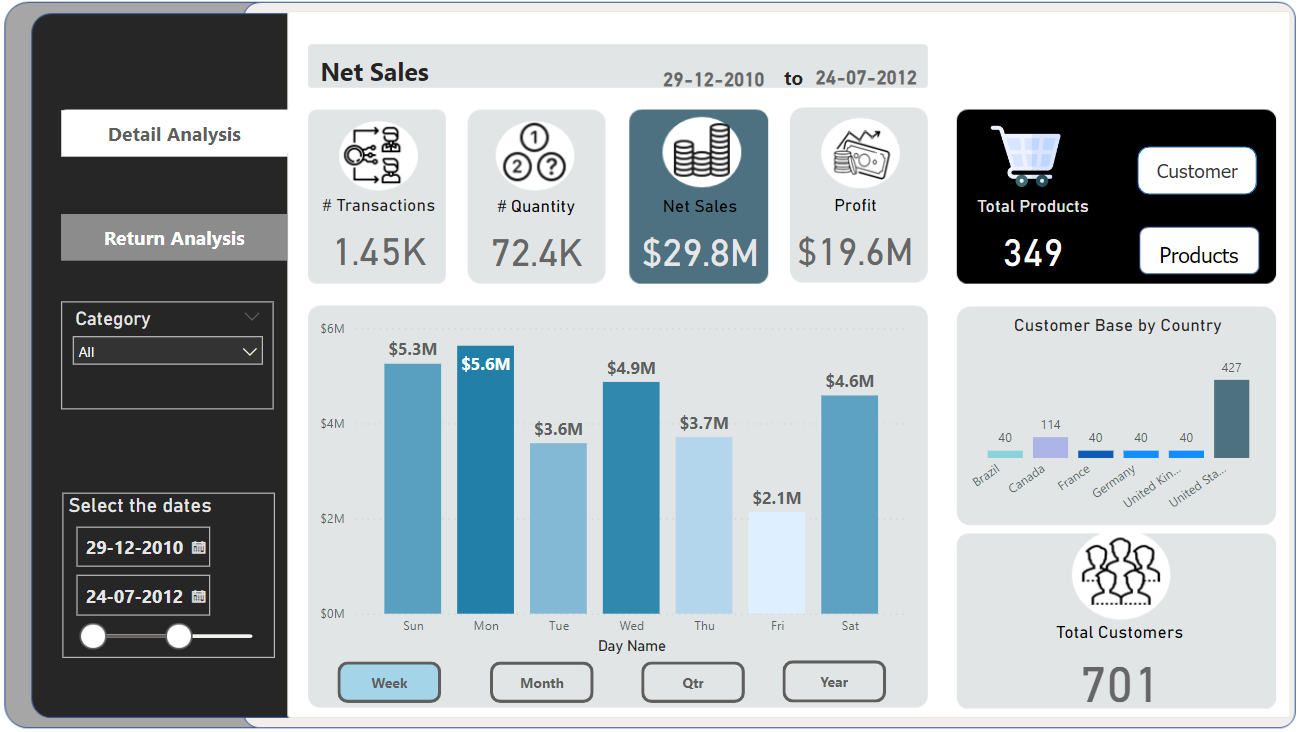

What the dashboard file says about the page in this screenshot:
{"tool":"powerbi","page":{"name":"Net Sales","canvas":[1280,720],"ordinal":2},"visuals":[{"type":"card","title":"# Transactions","fields":{"Values":["MeasuresTable.# Transactions"]},"box":[319.6,193,120.6,85.6],"z":0},{"type":"actionButton","title":"InactiveYear","box":[770,642.7,99.7,40.5],"z":0,"group":"g1"},{"type":"actionButton","title":"InactiveMonth","box":[487,643.6,100.1,39.8],"z":0,"group":"g2"},{"type":"actionButton","title":"Inactive Qtr","box":[633.4,643.6,100.1,40.3],"z":0,"group":"g4"},{"type":"card","title":"# Quantity","fields":{"Values":["MeasuresTable.# Total Quantity"]},"box":[457.1,194.2,149.5,85.6],"z":1000},{"type":"actionButton","title":"Active Week","box":[340.7,644,100.1,40.3],"z":1000,"group":"g3"},{"type":"card","title":"Net Sales","fields":{"Values":["MeasuresTable.Net Revenue"]},"box":[615.1,194.2,149.5,85.6],"z":2000},{"type":"card","title":"Profit","fields":{"Values":["MeasuresTable.Total Profit"]},"box":[764.6,193,150.8,85.6],"z":3000},{"type":"card","title":"Total Products","fields":{"Values":["MeasuresTable.Total No of Products"]},"box":[872,194.2,278.6,85.6],"z":4000},{"type":"columnChart","title":"Week T Chart","fields":{"Category":["DimDates.Day Name"],"Y":["MeasuresTable.Net Revenue"]},"box":[318.9,308.7,577.7,332.9],"z":6000},{"type":"group","id":"g1","title":"Year Button","box":[770,642.7,110,41.2],"z":9000},{"type":"group","id":"g2","title":"Month Button","box":[487,643.6,100.1,40.3],"z":10000},{"type":"group","id":"g3","title":"Week Button","box":[340.6,643.6,100.1,40.3],"z":11000},{"type":"group","id":"g4","title":"Qtr Button","box":[633.4,643.6,100.1,40.3],"z":12000},{"type":"card","title":"Total Customers","fields":{"Values":["MeasuresTable.Total Customer Base"]},"box":[955,605.3,279.1,91.8],"z":13000},{"type":"columnChart","title":"Customer Base by Country","fields":{"Category":["DimCustomers.CountryName"],"Y":["MeasuresTable.Total Customer Base"]},"box":[942.6,308.8,300.2,200.9],"z":14000},{"type":"textbox","box":[317.8,53.5,335.2,46.2],"z":15000},{"type":"actionButton","box":[73.7,112.7,218.1,44.8],"z":16000},{"type":"actionButton","box":[472.4,122.8,124.2,156],"z":17000},{"type":"actionButton","box":[314.9,122.8,124.2,156],"z":18000},{"type":"actionButton","box":[783,122.8,114.1,156],"z":19000},{"type":"card","fields":{"Values":["Min(DimDates.Date)"]},"box":[632.8,65,140.1,34.7],"z":20000},{"type":"card","fields":{"Values":["Max(DimDates.Date)"]},"box":[780.1,63.6,140.1,34.7],"z":21000},{"type":"textbox","box":[765.7,62.1,49.1,43.3],"z":22000},{"type":"slicer","title":"Select the dates","fields":{"Values":["DimDates.Date"]},"box":[75.1,481.1,205.1,158.9],"z":23000},{"type":"actionButton","box":[73.7,212.4,218.1,44.8],"z":24000},{"type":"actionButton","box":[1108.1,225.4,125.7,50.6],"z":25000},{"type":"shape","box":[1112.4,147.4,115.6,46.2],"z":26000},{"type":"actionButton","box":[1112.4,147.4,115.6,46.2],"z":27000},{"type":"slicer","fields":{"Values":["DimCategory.CategoryName"]},"box":[73.6,296.7,205,103.7],"z":28000},{"type":"image","box":[964.8,118.2,78.4,77.2],"z":29000}]}

Visuals, with their boxes in screenshot pixels (x1, y1, x2, y2), scaled from the page's 1280x720 canvas onto the 1306x732 screenshot:
"# Transactions" card: bbox=(326, 196, 449, 283)
"InactiveYear" actionButton: bbox=(786, 653, 887, 695)
"InactiveMonth" actionButton: bbox=(497, 654, 599, 695)
"Inactive Qtr" actionButton: bbox=(646, 654, 748, 695)
"# Quantity" card: bbox=(466, 197, 619, 284)
"Active Week" actionButton: bbox=(348, 655, 450, 696)
"Net Sales" card: bbox=(628, 197, 780, 284)
"Profit" card: bbox=(780, 196, 934, 283)
"Total Products" card: bbox=(890, 197, 1174, 284)
"Week T Chart" columnChart: bbox=(325, 314, 915, 652)
"Year Button" group: bbox=(786, 653, 898, 695)
"Month Button" group: bbox=(497, 654, 599, 695)
"Week Button" group: bbox=(348, 654, 450, 695)
"Qtr Button" group: bbox=(646, 654, 748, 695)
"Total Customers" card: bbox=(974, 615, 1259, 709)
"Customer Base by Country" columnChart: bbox=(962, 314, 1268, 518)
textbox: bbox=(324, 54, 666, 101)
actionButton: bbox=(75, 115, 298, 160)
actionButton: bbox=(482, 125, 609, 283)
actionButton: bbox=(321, 125, 448, 283)
actionButton: bbox=(799, 125, 915, 283)
card - Min(DimDates.Date): bbox=(646, 66, 789, 101)
card - Max(DimDates.Date): bbox=(796, 65, 939, 100)
textbox: bbox=(781, 63, 831, 107)
"Select the dates" slicer: bbox=(77, 489, 286, 651)
actionButton: bbox=(75, 216, 298, 261)
actionButton: bbox=(1131, 229, 1259, 281)
shape: bbox=(1135, 150, 1253, 197)
actionButton: bbox=(1135, 150, 1253, 197)
slicer - DimCategory.CategoryName: bbox=(75, 302, 284, 407)
image: bbox=(984, 120, 1064, 199)
